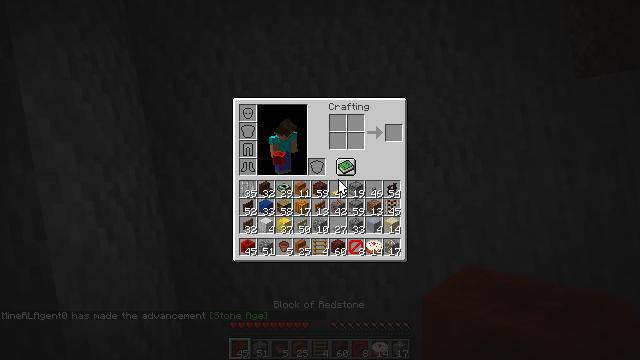cursor: (179, 338, 195, 348)
